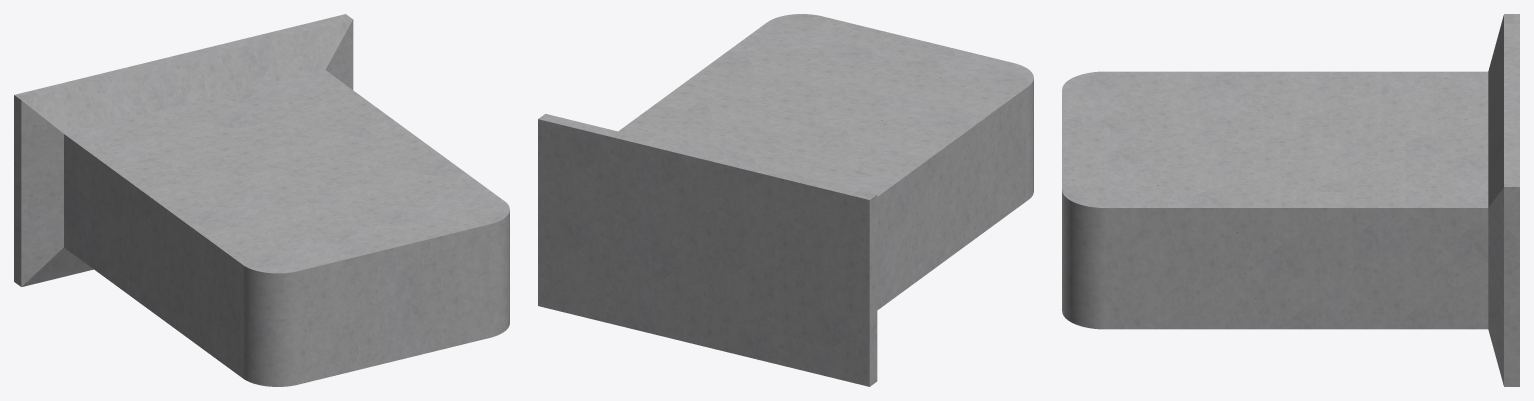
3 renders of one model, left to right at view 1: azimuth 30°, elevation 25°; view 2: azimuth 150°, elevation 25°; view 3: azimuth 270°, elevation 25°, orthographic. The views are drawn at different scales.
Parts seen in each view (by area): view 1: PA-539-F_LOD0; view 2: PA-539-F_LOD0; view 3: PA-539-F_LOD0.
Boxes of the visible parts, bbox=[...] form: PA-539-F_LOD0: bbox=[14, 14, 509, 386]; PA-539-F_LOD0: bbox=[538, 14, 1033, 386]; PA-539-F_LOD0: bbox=[1062, 14, 1519, 386].
Size of what is drawn, in the model's own units: 72.64 by 39.12 by 81.17.
